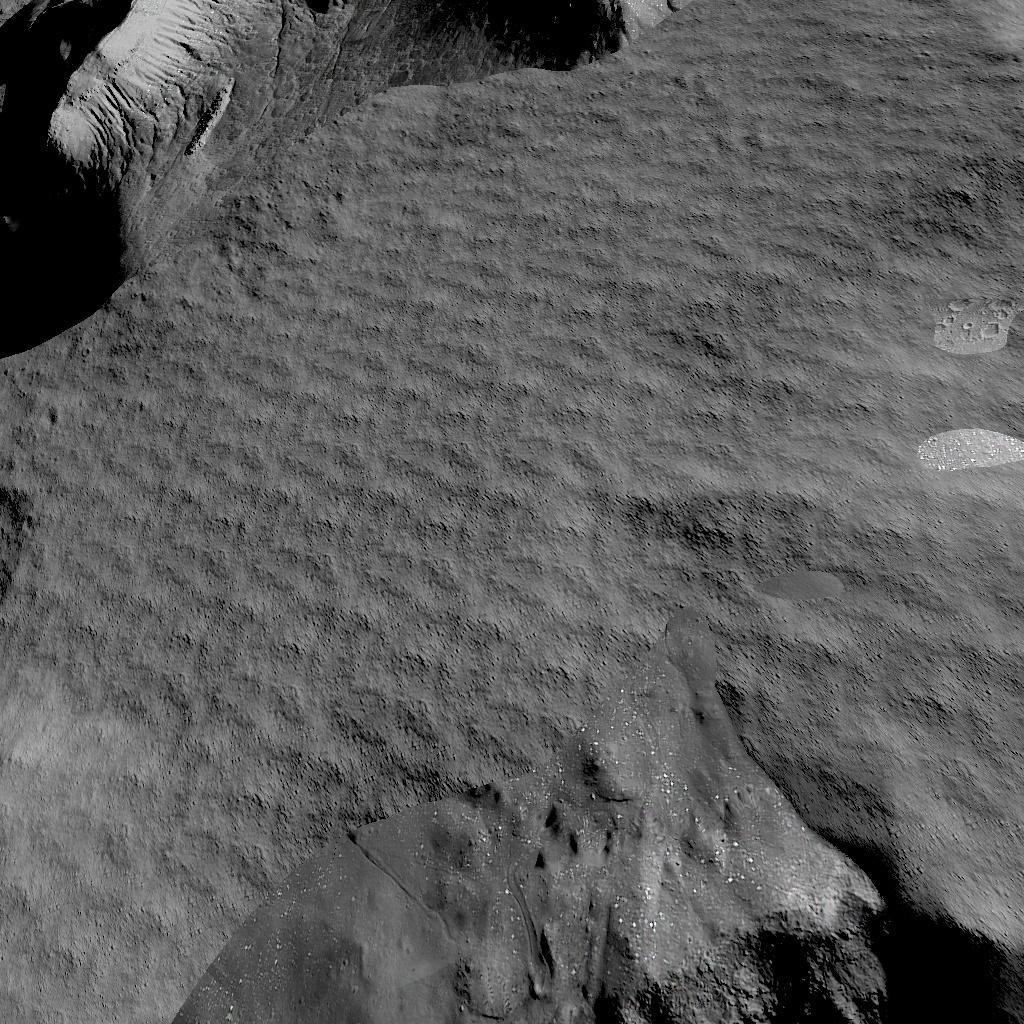Boulders: (0, 0, 693, 360)
Crater: (201, 792, 1024, 1024)
Plan surface: (0, 372, 1024, 778), (708, 0, 1024, 360), (0, 792, 191, 1024)
